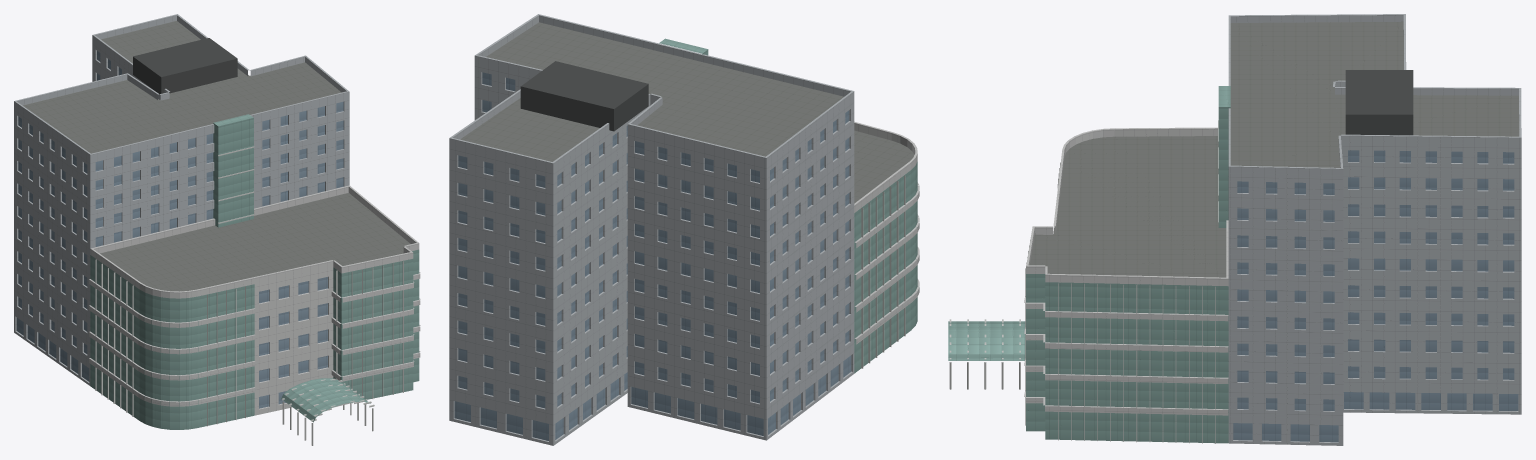
3 renders of one model, left to right at view 1: azimuth 30°, elevation 25°; view 2: azimuth 150°, elevation 25°; view 3: azimuth 270°, elevation 25°, orthographic. The views are drawn at different scales.
Visible parts, largest first — view 1: cardiovascular-hospital; view 2: cardiovascular-hospital; view 3: cardiovascular-hospital.
Part boxes in pixels (<box>): cardiovascular-hospital: <box>14,14,420,445</box>; cardiovascular-hospital: <box>449,14,919,445</box>; cardiovascular-hospital: <box>948,14,1521,445</box>.
Bounding box in the file's own units: 48.61 × 42.7 × 75.96.
Materials: 7 (5 with a texture image).
